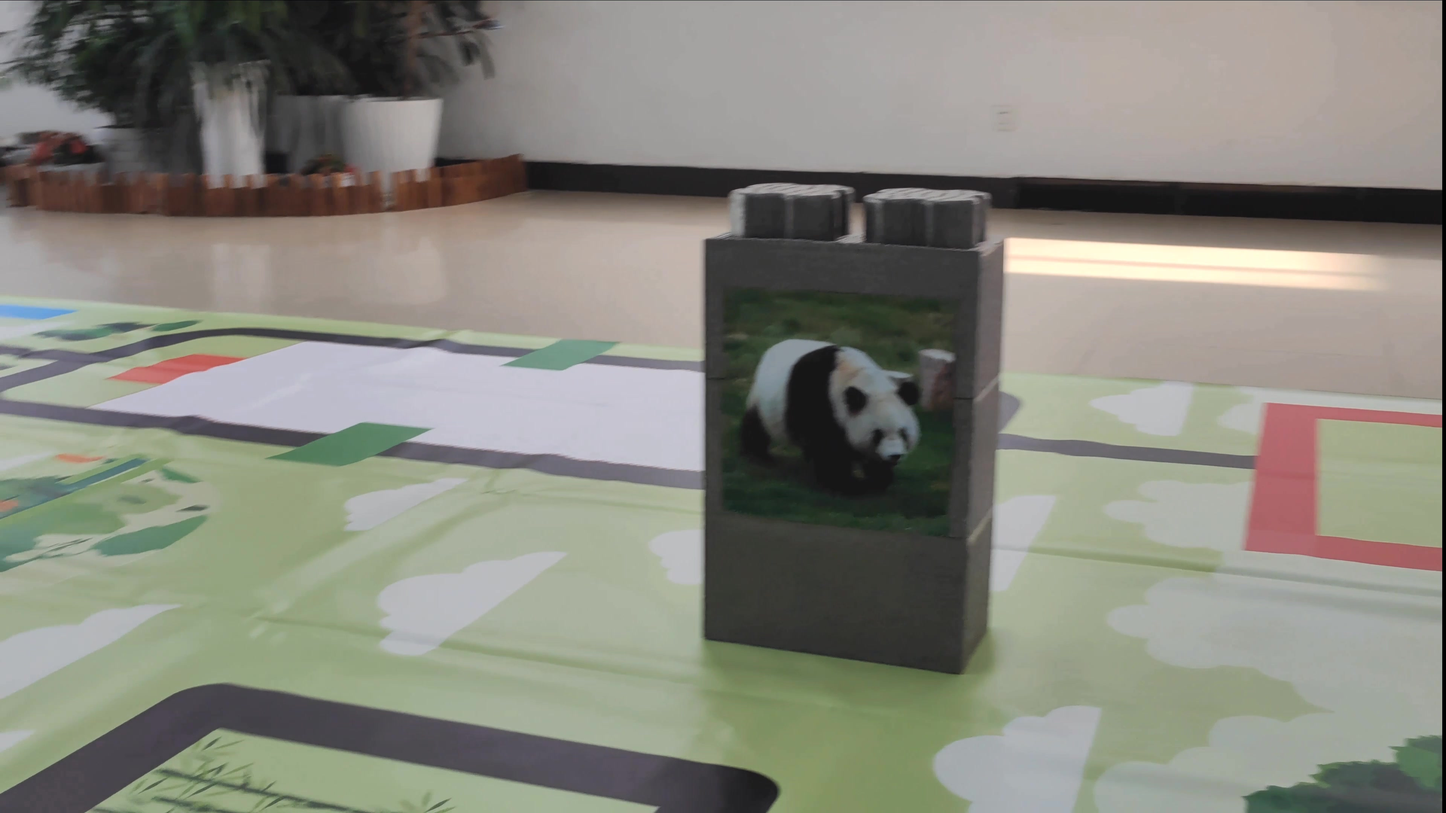panda: (734, 325, 950, 502)
